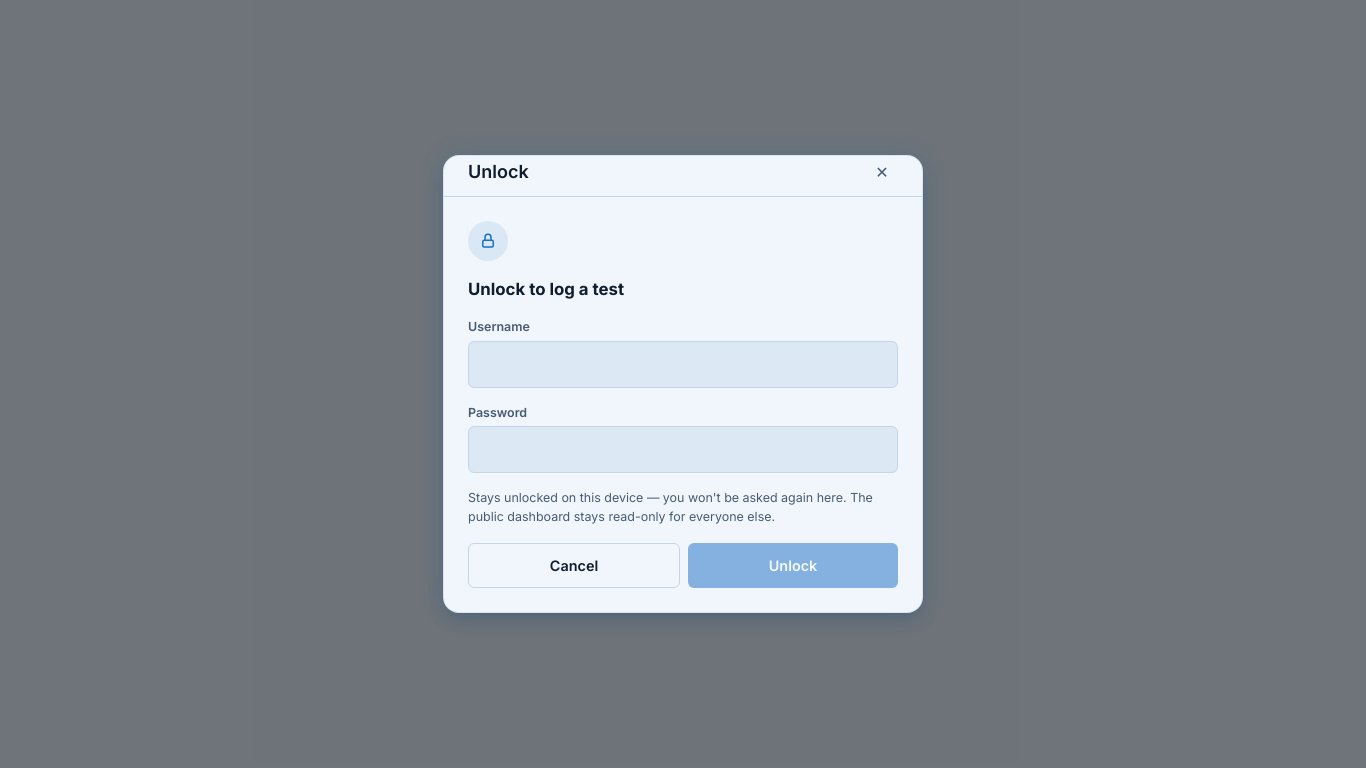
Test: LogTestFlow › advances to the form on success and disables Save until a value is entered
In the field labelled "Username": (683, 364) [468, 341, 898, 388], type "alice"
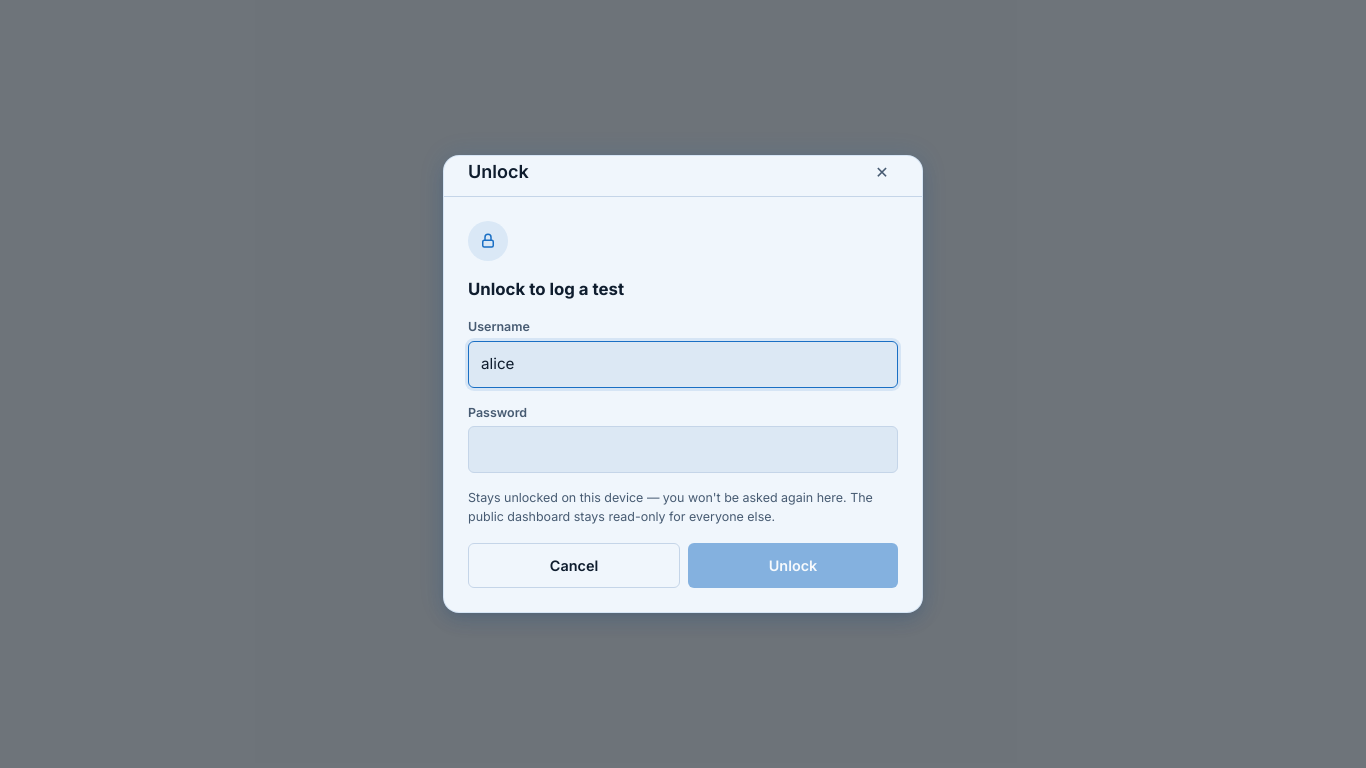
In the password field labelled "Password": (683, 450) [468, 426, 898, 473], type "s3cret"
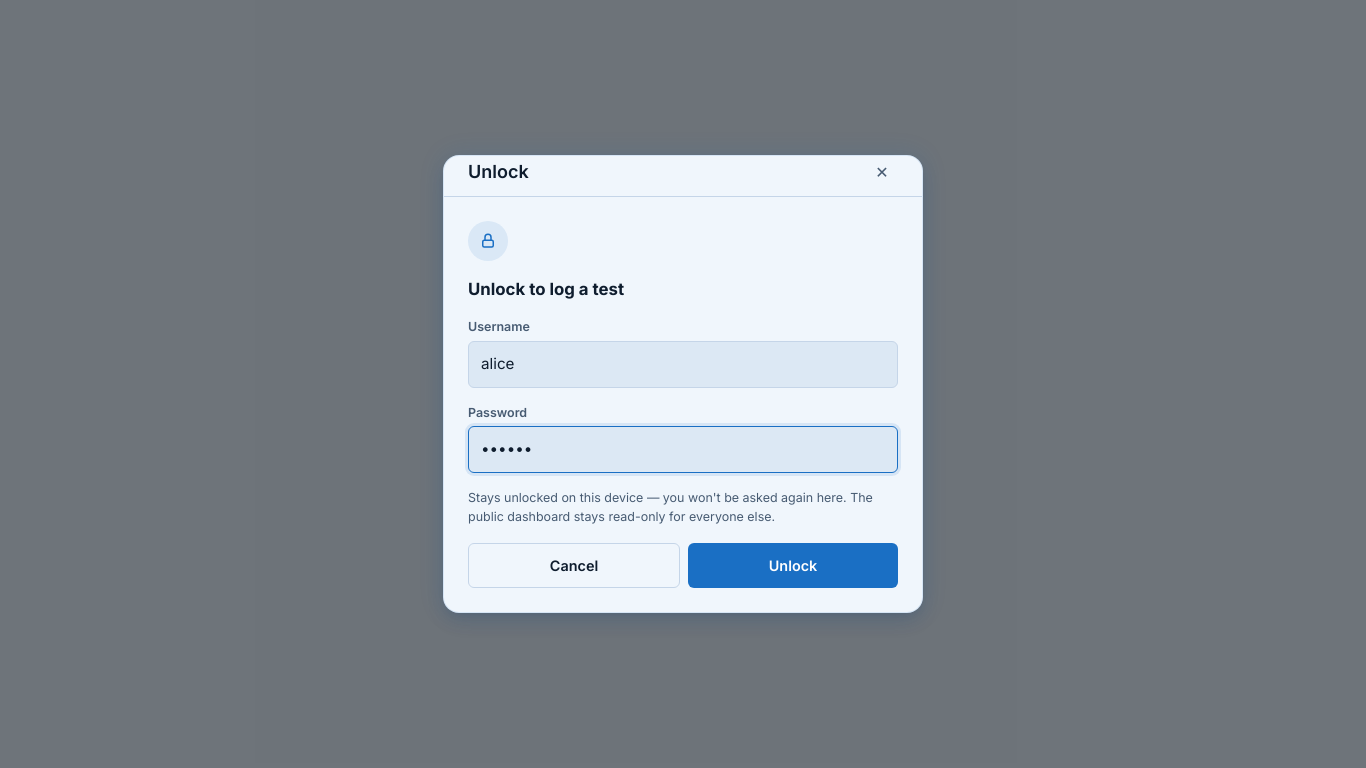
Click the button "Unlock": (793, 565) [688, 542, 898, 588]
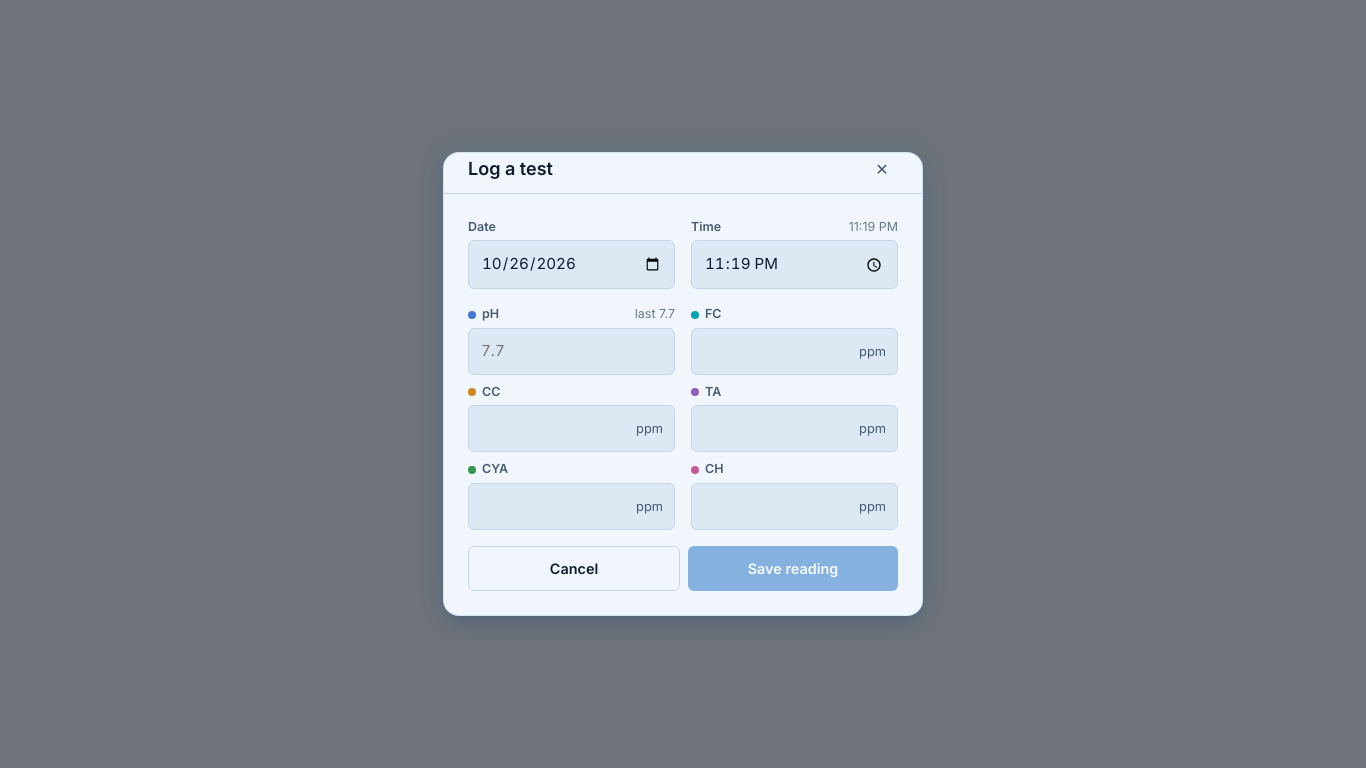
Expected: the heading "Log a test" is shown, [468, 155, 553, 182]
Expected: the button "Save reading" is disabled, [688, 546, 898, 591]
In the field labelled "FC ppm": (794, 351) [691, 328, 898, 375], type "4.0"
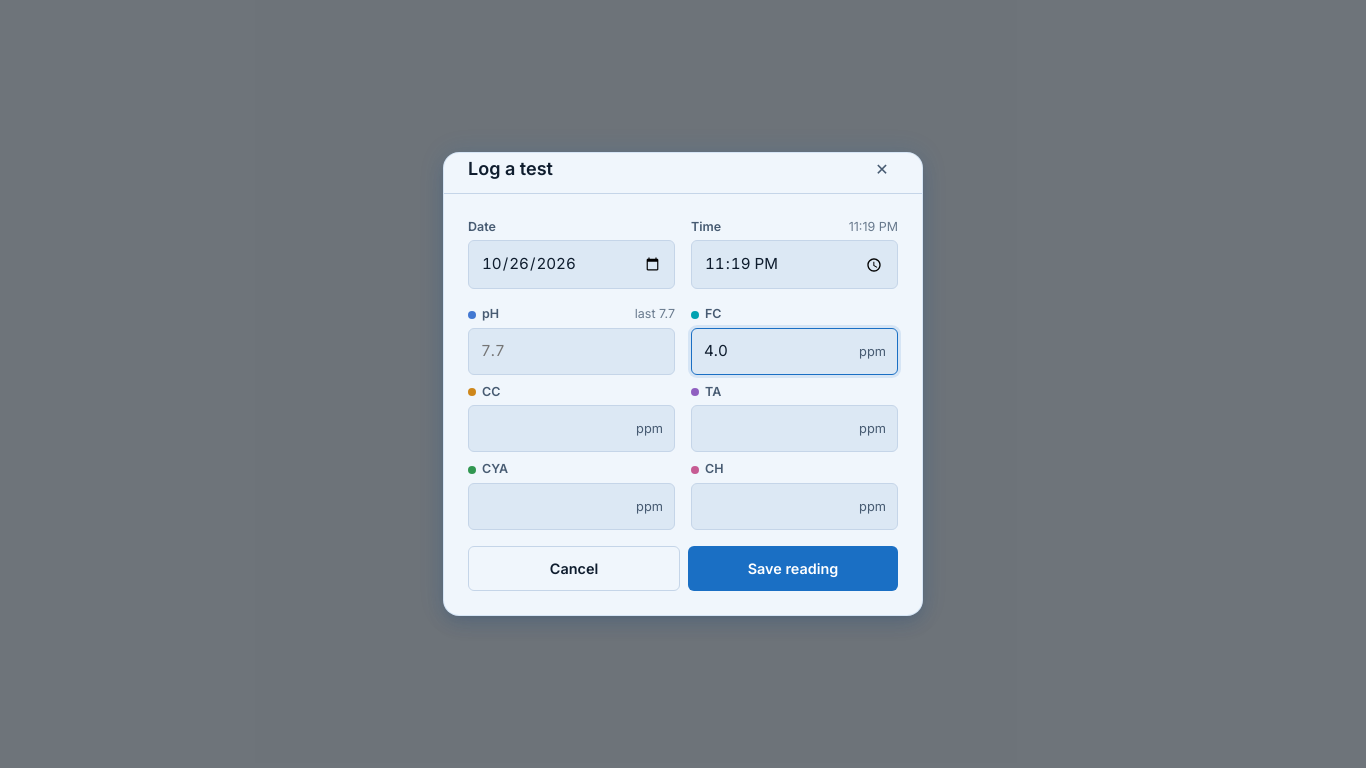
Expected: the button "Save reading" is enabled, [688, 546, 898, 591]
